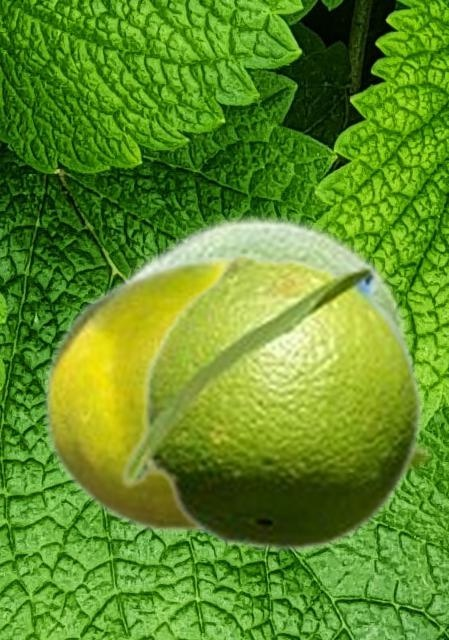dalandan: (41, 253, 416, 535), (118, 250, 425, 554), (111, 209, 436, 479)
